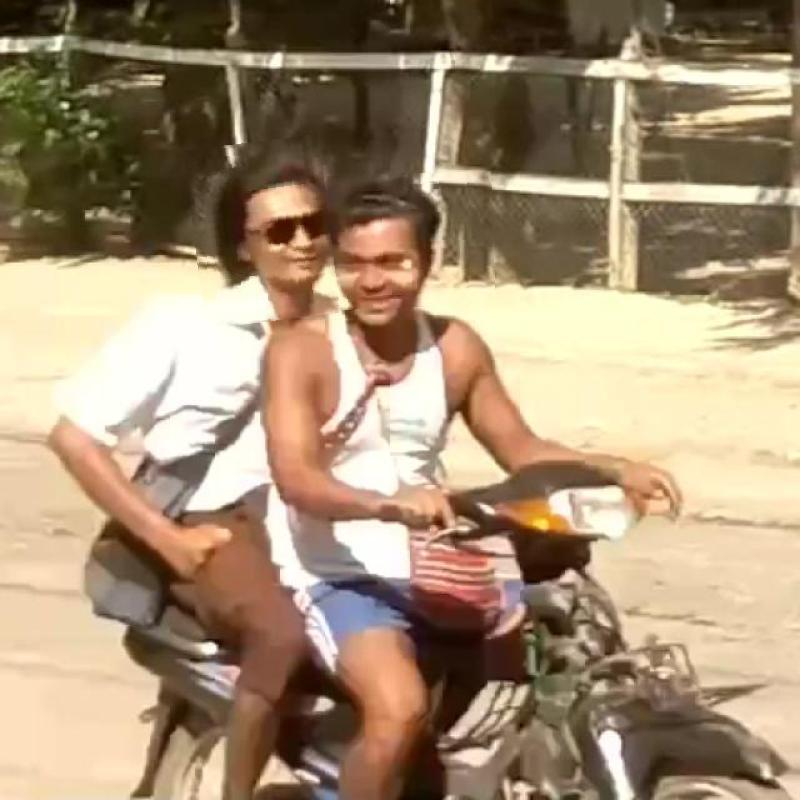nohelmet: (190, 138, 336, 326), (327, 172, 494, 309)
